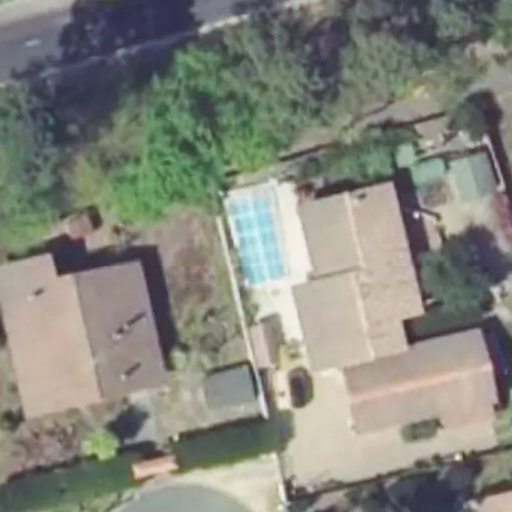pool: (229, 191, 287, 283)
